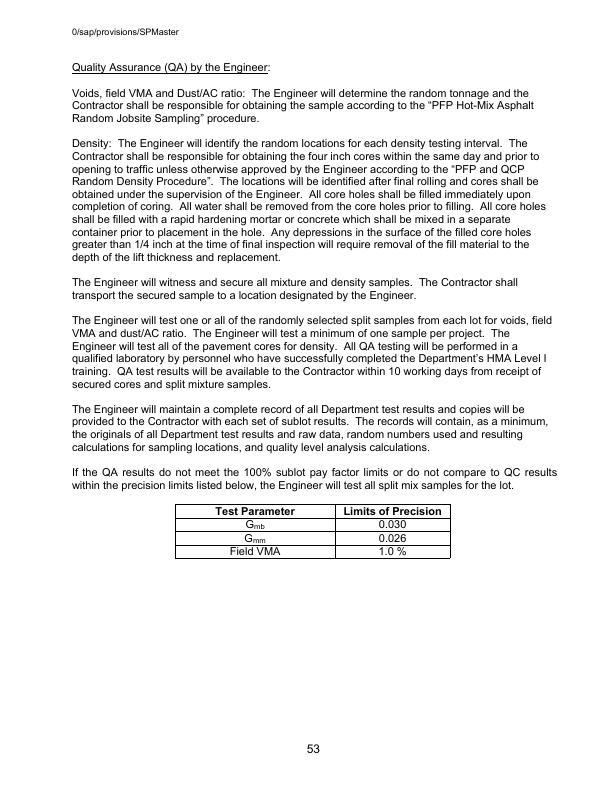table: (170, 500, 457, 565)
text: (67, 136, 550, 266), (69, 312, 555, 391), (69, 399, 549, 455), (69, 86, 541, 130), (68, 464, 563, 498), (67, 274, 527, 303), (71, 61, 277, 76)
